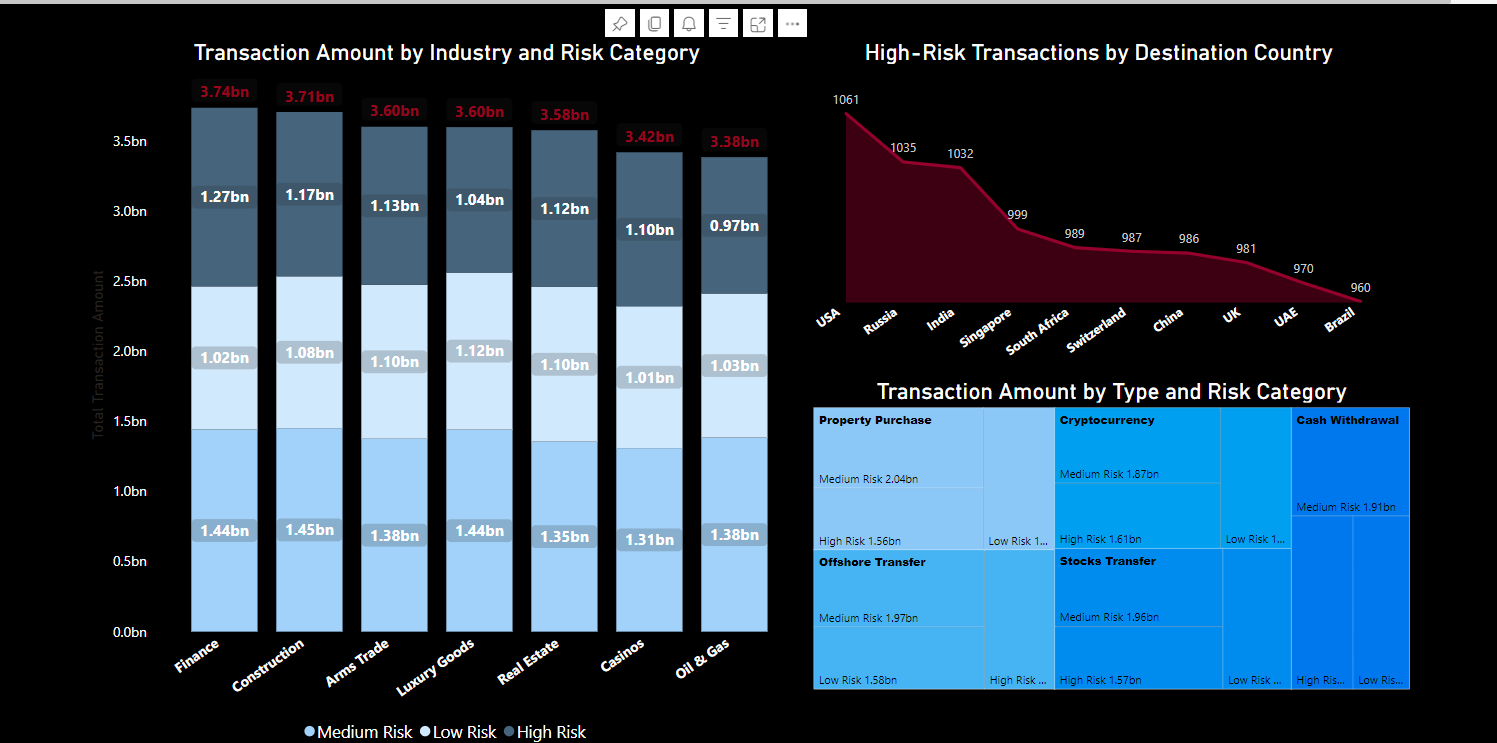

This screenshot's page, from the dashboard's own definition file:
{"tool":"powerbi","page":{"name":"Risk Analysis of Global Transactions by Industry and Destination Country","canvas":[1280,720],"ordinal":3},"visuals":[{"type":"columnChart","title":"Transaction Amount by Industry and Risk Category","fields":{"Category":["Big_Black_Money_Dataset.Industry"],"Y":["Big_Black_Money_Dataset.Total Transaction Amount"],"Series":["Big_Black_Money_Dataset.High-Risk Category"]},"box":[0,33.6,696.6,686.7],"z":0},{"type":"areaChart","title":"High-Risk Only Transactions by Destination Country","fields":{"Category":["Big_Black_Money_Dataset.Destination Country"],"Y":["CountNonNull(Big_Black_Money_Dataset.High Risk Only)"]},"box":[696.6,33.6,558.5,325.9],"z":1000},{"type":"treemap","title":"Transaction Amount by Type and Risk Category","fields":{"Group":["Big_Black_Money_Dataset.Transaction Type"],"Details":["Big_Black_Money_Dataset.Risk Category"],"Values":["Big_Black_Money_Dataset.Total Transaction Amount"]},"box":[696.6,359.5,583.4,304.8],"z":1001}]}

Visuals, with their boxes on the page's 1280x720 design canvas (x1, y1, x2, y2). These are canvas units, not pixel positions in the 1497x743 screenshot, which may show the page scaled, cropped or inside an application window:
"Transaction Amount by Industry and Risk Category" columnChart: (left=0, top=34, right=697, bottom=720)
"High-Risk Only Transactions by Destination Country" areaChart: (left=697, top=34, right=1255, bottom=360)
"Transaction Amount by Type and Risk Category" treemap: (left=697, top=360, right=1280, bottom=664)
